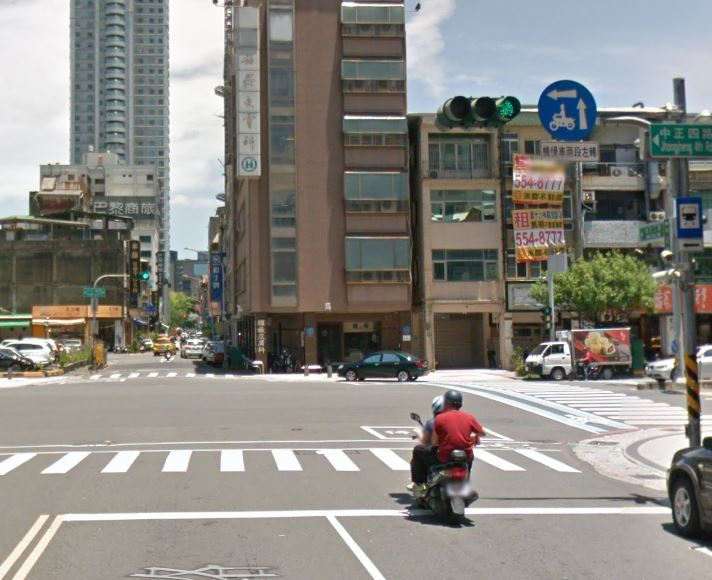Traffic_light_green: (434, 92, 521, 132)
motorcycle: (404, 408, 483, 521)
